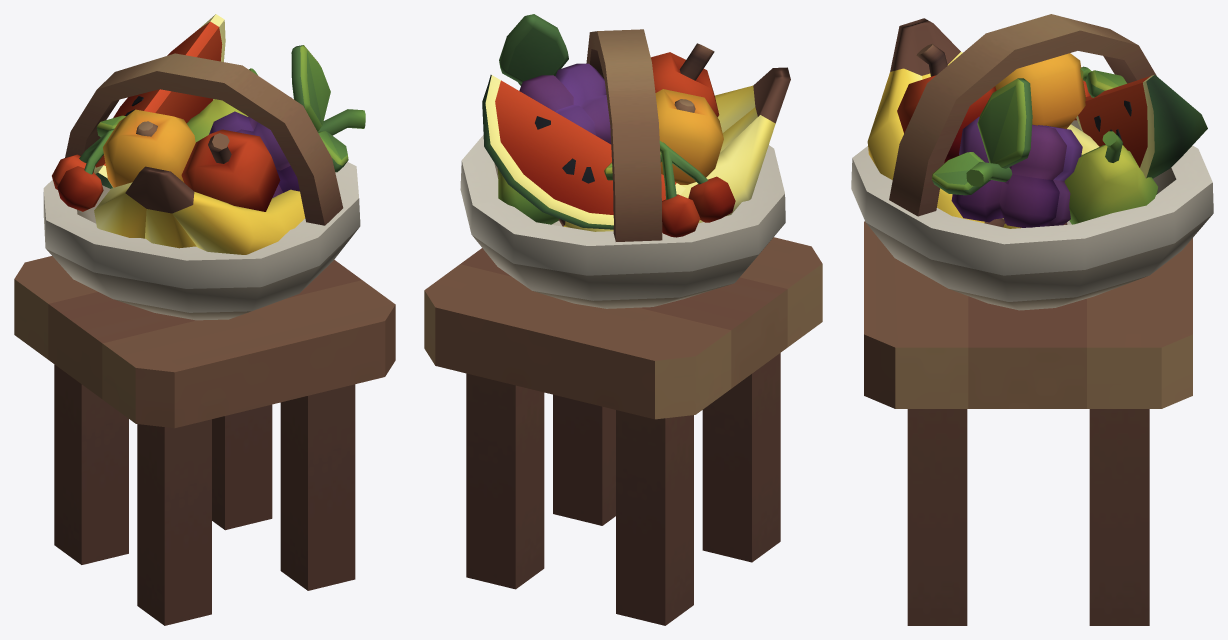
The model's file is table_fruit.fbx.
The picture shows the model from 3 angles, left to right: view 1: azimuth 30°, elevation 25°; view 2: azimuth 150°, elevation 25°; view 3: azimuth 270°, elevation 25°; orthographic projection. The views are drawn at different scales.
Parts seen in each view (by area): view 1: table_fruit; view 2: table_fruit; view 3: table_fruit.
Part boxes in pixels (bbox=[...]): table_fruit: bbox=[14, 14, 395, 625]; table_fruit: bbox=[424, 14, 822, 625]; table_fruit: bbox=[851, 14, 1213, 625].
Bounding box in the file's own units: 68.55 × 114 × 68.56.
